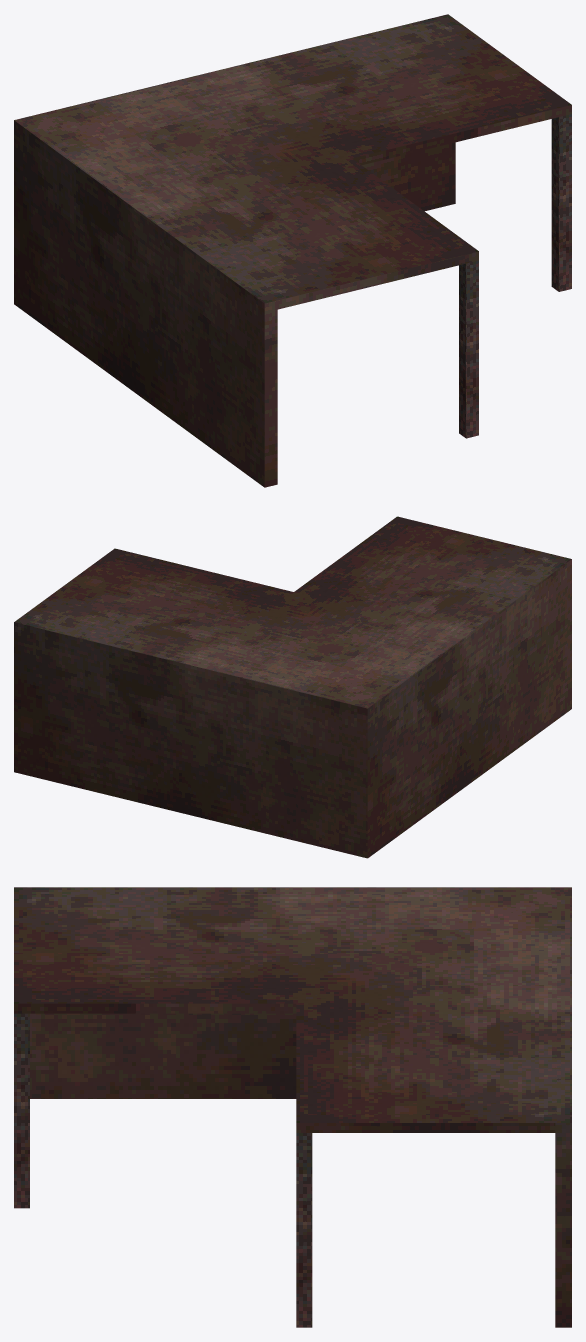
File: desk2_corner_weathered.glb
3 renders of one model, top to bottom at view 1: azimuth 30°, elevation 25°; view 2: azimuth 150°, elevation 25°; view 3: azimuth 270°, elevation 25°, orthographic. The views are drawn at different scales.
Visible parts, largest first — view 1: desk2_corner_weathered; view 2: desk2_corner_weathered; view 3: desk2_corner_weathered.
Boxes of the visible parts, left/top/right/bottom form: desk2_corner_weathered: left=14, top=14, right=571, bottom=487; desk2_corner_weathered: left=14, top=516, right=571, bottom=858; desk2_corner_weathered: left=14, top=887, right=571, bottom=1327.
Size of the model in its own units: 2.2 by 0.8911 by 2.2.
1 material, 1 textured.
